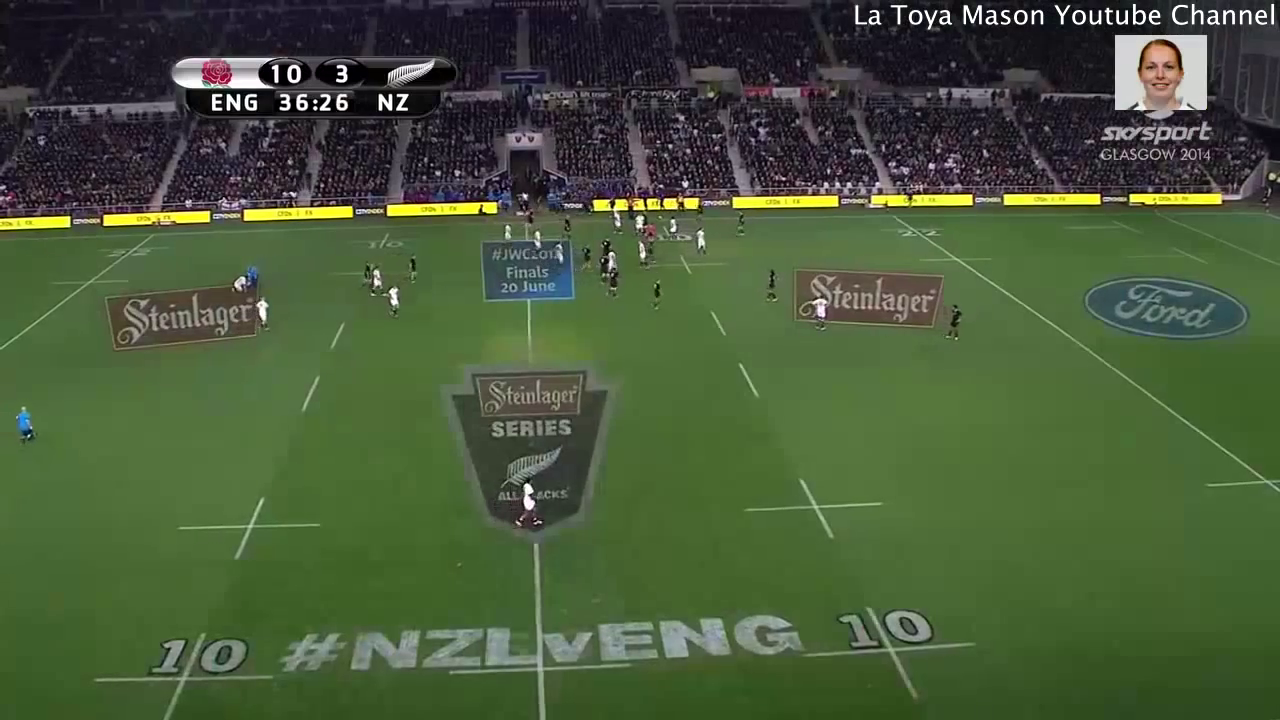10_metre: (791, 599, 992, 704), (83, 618, 284, 720), (169, 489, 327, 568), (738, 468, 894, 542), (652, 249, 732, 279), (345, 229, 428, 253)
player: (512, 469, 548, 534), (939, 298, 973, 358), (9, 401, 44, 449), (645, 273, 670, 316), (380, 281, 403, 322), (256, 294, 276, 338), (810, 293, 829, 337), (762, 266, 781, 308), (403, 250, 422, 288), (243, 263, 267, 293), (366, 261, 384, 299), (608, 207, 629, 239), (357, 257, 374, 293), (694, 224, 711, 258), (729, 211, 749, 239), (579, 240, 595, 274), (606, 265, 621, 301), (560, 211, 575, 245), (231, 270, 251, 295), (632, 239, 647, 270), (552, 238, 567, 269), (531, 225, 547, 254), (596, 252, 610, 284), (501, 221, 516, 250), (642, 221, 662, 242), (644, 238, 659, 264), (667, 216, 680, 244), (633, 212, 647, 238), (522, 204, 537, 227), (608, 245, 618, 275), (600, 235, 612, 257), (643, 210, 650, 224)
